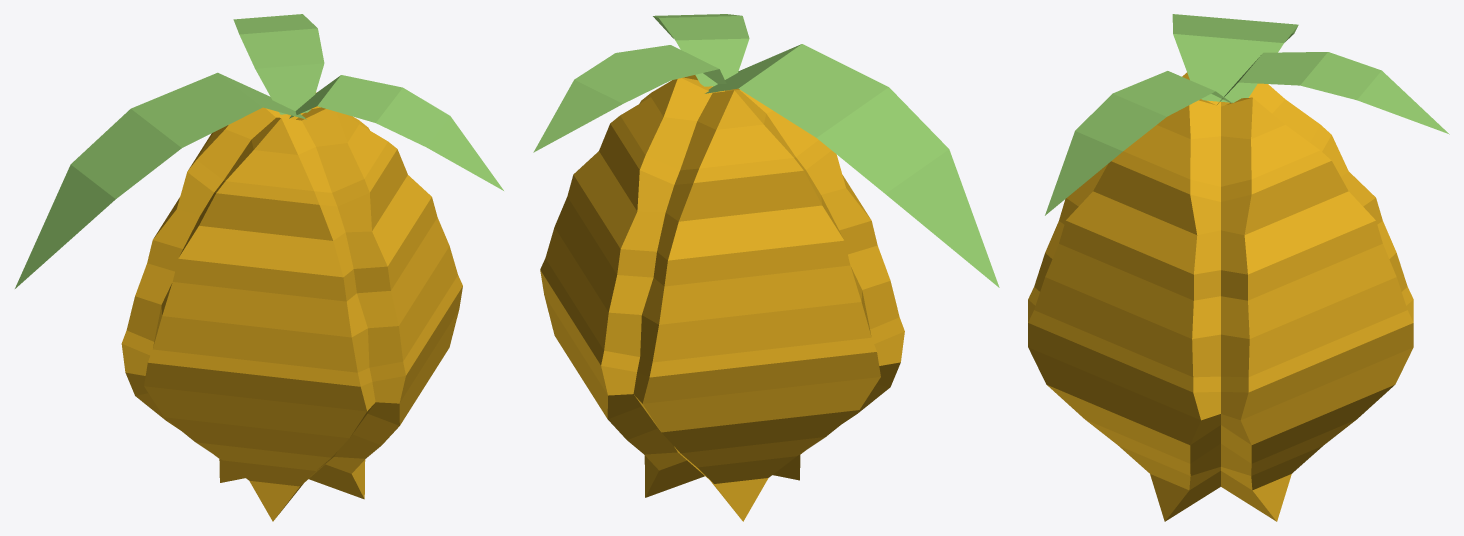
File: Citrus.fbx
3 views of the same model, side by side, from view 1: azimuth 30°, elevation 25°; view 2: azimuth 150°, elevation 25°; view 3: azimuth 270°, elevation 25° (orthographic). The views are drawn at different scales.
Visible parts, largest first — view 1: Citrus; view 2: Citrus; view 3: Citrus.
Part boxes in pixels (x1,y1,x2,y2): Citrus: (15, 14, 503, 521); Citrus: (533, 14, 999, 521); Citrus: (1028, 14, 1449, 521).
Bounding box in the file's own units: 262 × 247 × 212.
